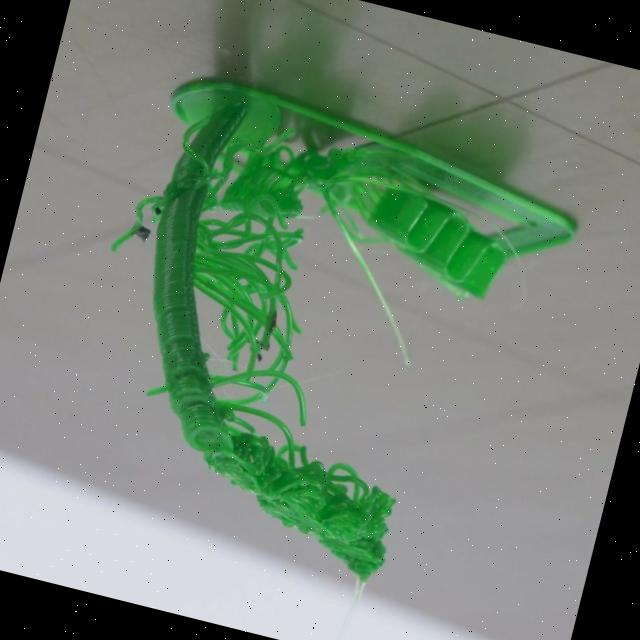spaghetti: (176, 100, 398, 408), (180, 394, 416, 602)
